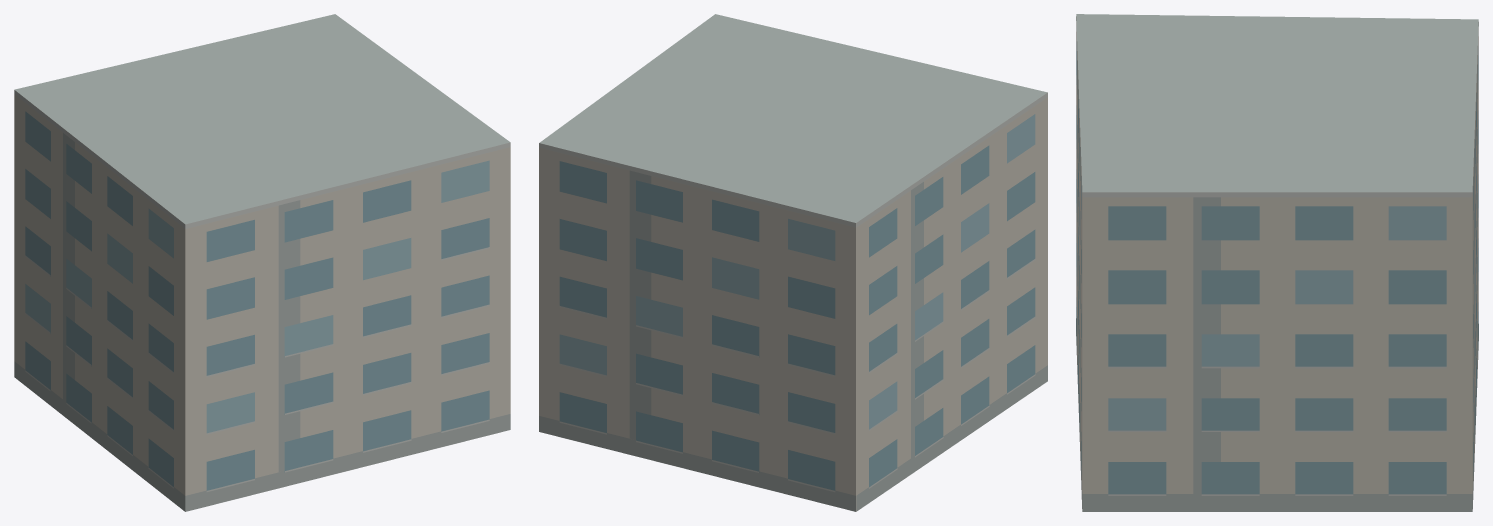
File: residential-4c9900a9-ab6c-405a-a629-d6585090ed91.glb
3 views of the same model, side by side, from view 1: azimuth 30°, elevation 25°; view 2: azimuth 150°, elevation 25°; view 3: azimuth 270°, elevation 25° (orthographic). The views are drawn at different scales.
Visible parts, largest first — view 1: residential-4c9900a9-ab6c-405a-a629-d6585090ed91.tmp; view 2: residential-4c9900a9-ab6c-405a-a629-d6585090ed91.tmp; view 3: residential-4c9900a9-ab6c-405a-a629-d6585090ed91.tmp.
Part boxes in pixels (x1,y1,x2,y2): residential-4c9900a9-ab6c-405a-a629-d6585090ed91.tmp: [14, 14, 510, 511]; residential-4c9900a9-ab6c-405a-a629-d6585090ed91.tmp: [539, 14, 1047, 511]; residential-4c9900a9-ab6c-405a-a629-d6585090ed91.tmp: [1076, 14, 1478, 511].
Bounding box in the file's own units: 18.24 × 15.25 × 17.41.
